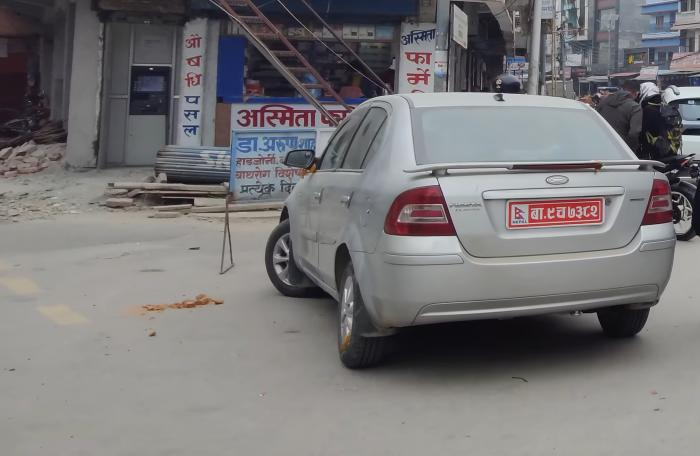car: (260, 89, 679, 372)
